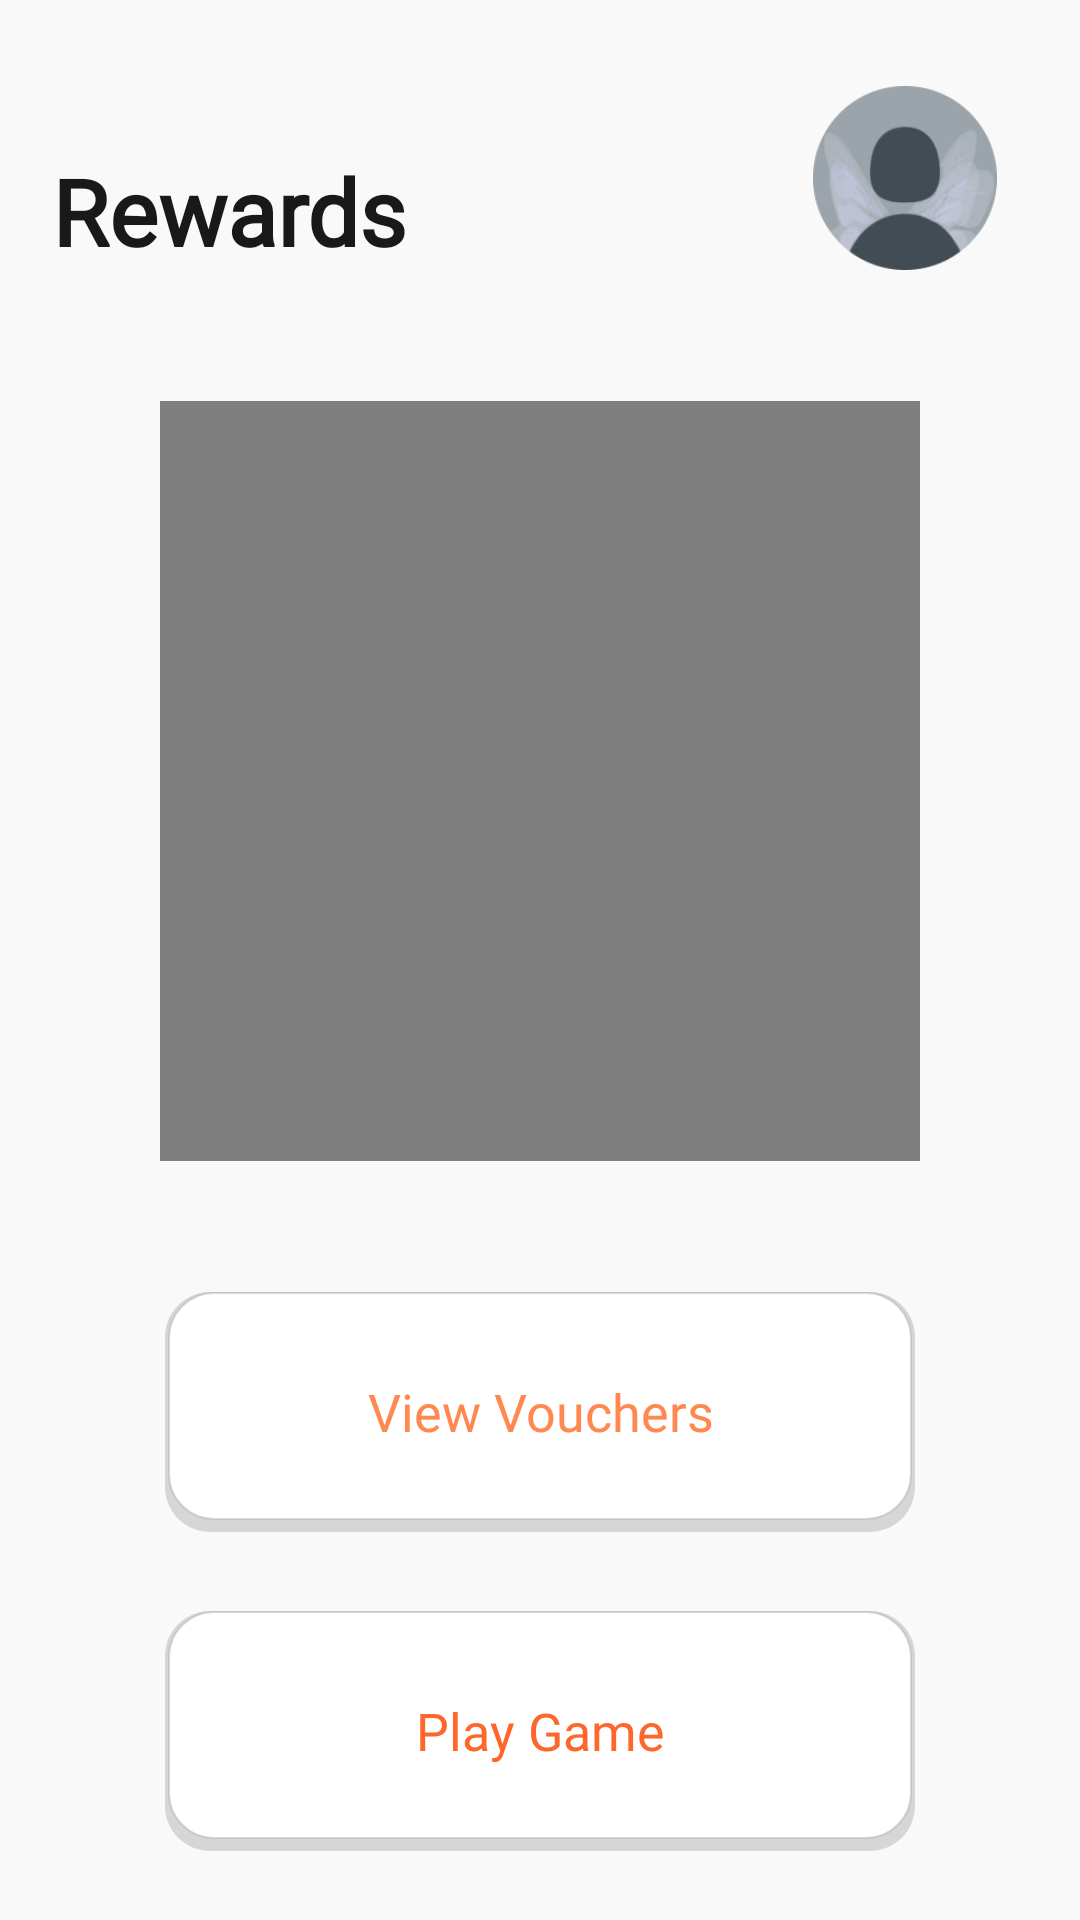

Where to tap for icons on this 1080 x 1920 app screen, as (x,y):
profilepic: (905,178)
